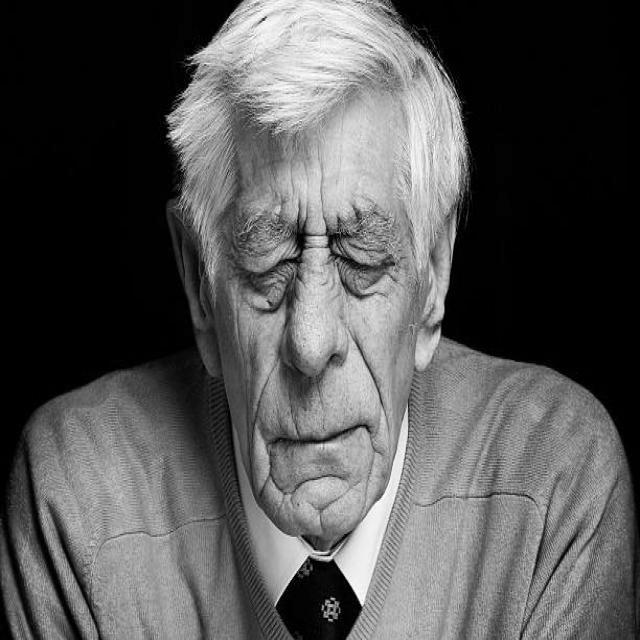real: (167, 53, 457, 537), (218, 195, 402, 298)
